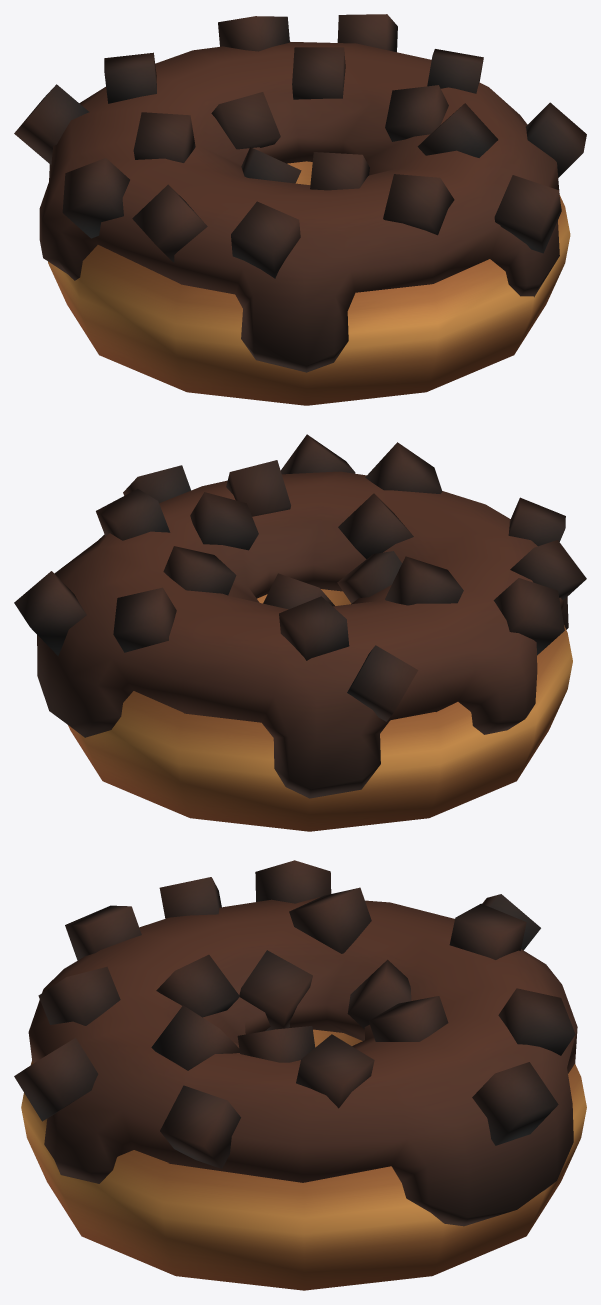
The model's file is m_Donut03.fbx.
3 views of the same model, one above another, from view 1: azimuth 30°, elevation 25°; view 2: azimuth 150°, elevation 25°; view 3: azimuth 270°, elevation 25° (orthographic). The views are drawn at different scales.
Parts seen in each view (by area): view 1: m_Donut03; view 2: m_Donut03; view 3: m_Donut03.
Boxes of the visible parts, bbox=[...] form: m_Donut03: bbox=[14, 14, 586, 405]; m_Donut03: bbox=[14, 434, 586, 831]; m_Donut03: bbox=[14, 860, 586, 1290].
Bounding box in the file's own units: 12.87 × 6.03 × 12.32.
